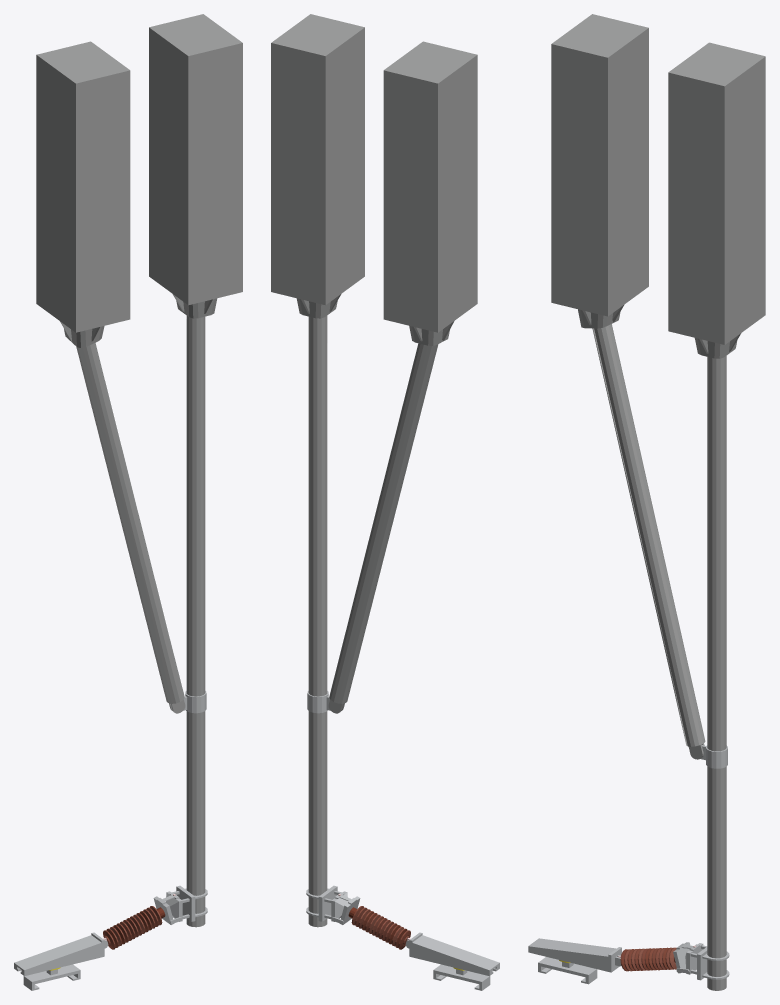
Rendered from catenary_high-speed_rigid_long.obj.
3 renders of one model, left to right at view 1: azimuth 30°, elevation 25°; view 2: azimuth 150°, elevation 25°; view 3: azimuth 330°, elevation 25°, orthographic. The views are drawn at different scales.
Visible parts, largest first — view 1: 1.001; view 2: 1.001; view 3: 1.001.
Part boxes in pixels (<box>): 1.001: <box>14,14,242,990</box>; 1.001: <box>271,14,499,990</box>; 1.001: <box>528,14,765,990</box>.
Bounding box in the file's own units: 0.8884 × 3.8 × 0.2979.
1 material, 1 textured.
